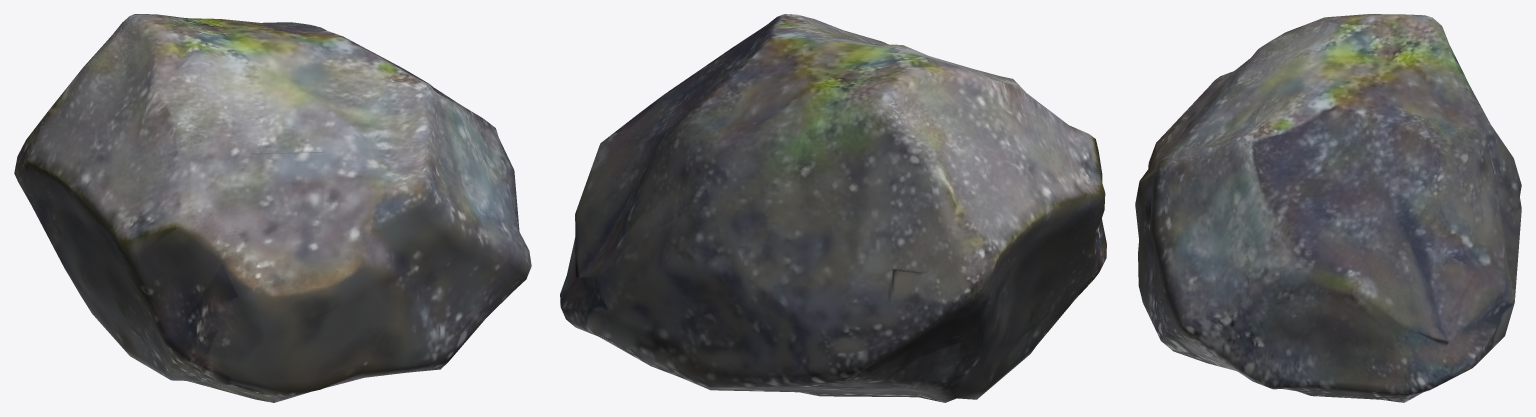
File: rock.fbx
3 renders of one model, left to right at view 1: azimuth 30°, elevation 25°; view 2: azimuth 150°, elevation 25°; view 3: azimuth 270°, elevation 25°, orthographic. The views are drawn at different scales.
Visible parts, largest first — view 1: Mesh_0; view 2: Mesh_0; view 3: Mesh_0.
Boxes of the visible parts, <box> form: Mesh_0: <box>14,14,531,402</box>; Mesh_0: <box>560,14,1106,402</box>; Mesh_0: <box>1135,14,1521,402</box>.
Size of the model in its own units: 427 by 300 by 381.
